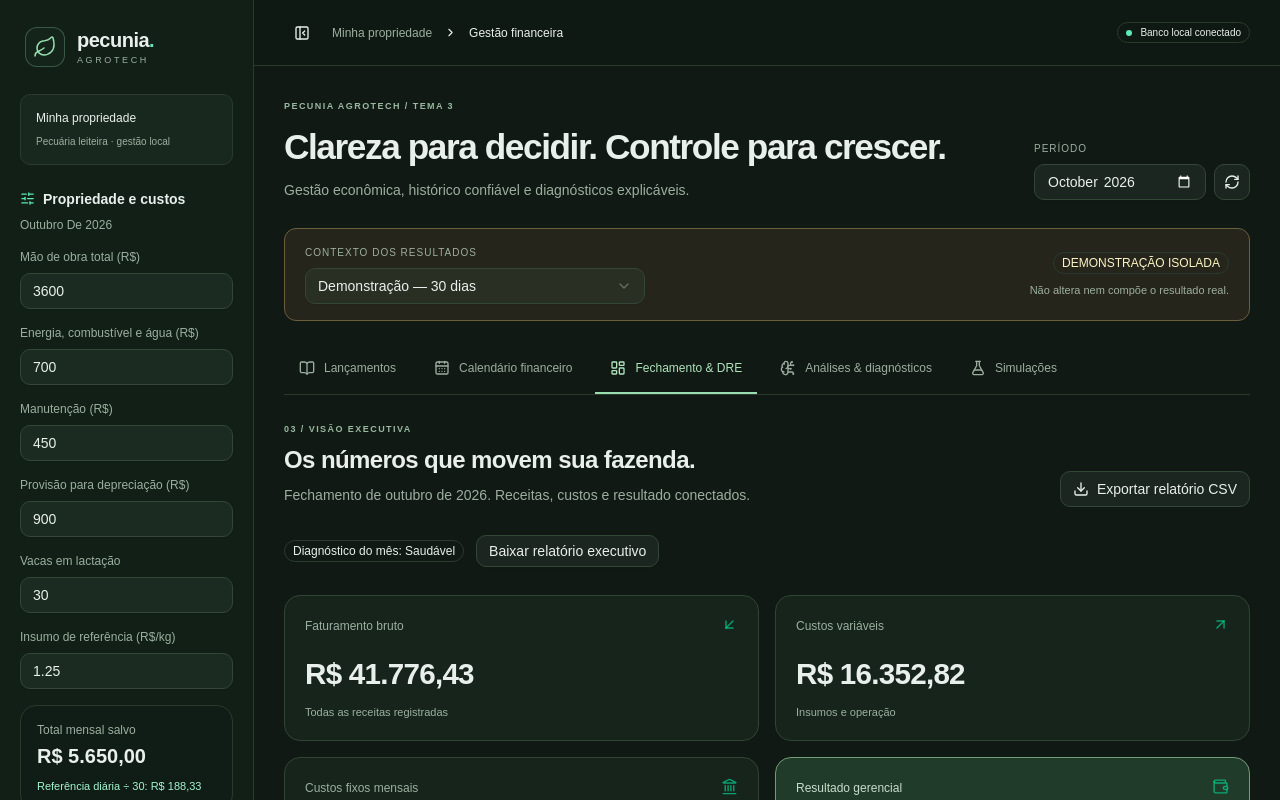
Test: application integration states › labels hypothetical data and scopes all requests after switching to real history
This screenshot has width=1280, height=800.
Expected: the text "DEMONSTRAÇÃO ISOLADA" is shown, [1053, 252, 1229, 274]
Click the dropdown named "Contexto dos resultados".
click(475, 286)  # box [305, 268, 645, 304]
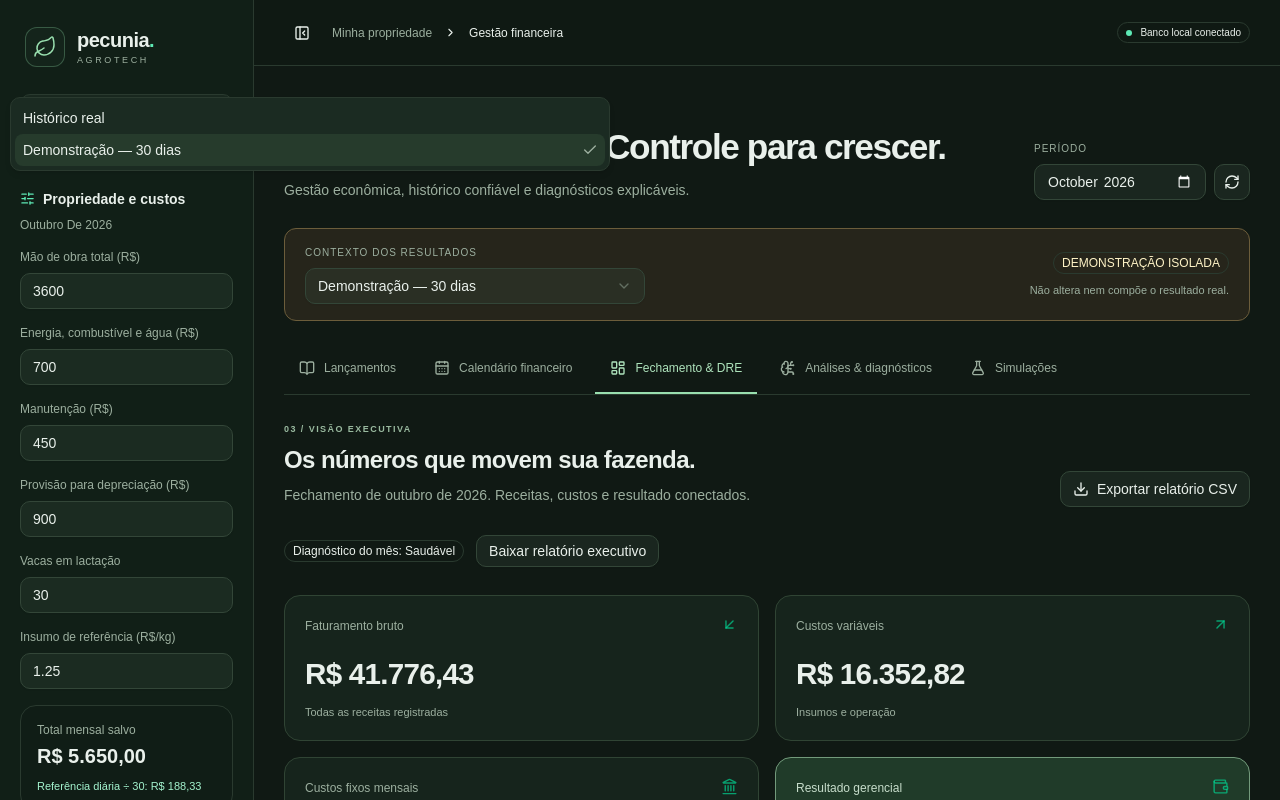
Click the option "Histórico real".
click(64, 118)  # box [23, 110, 105, 126]
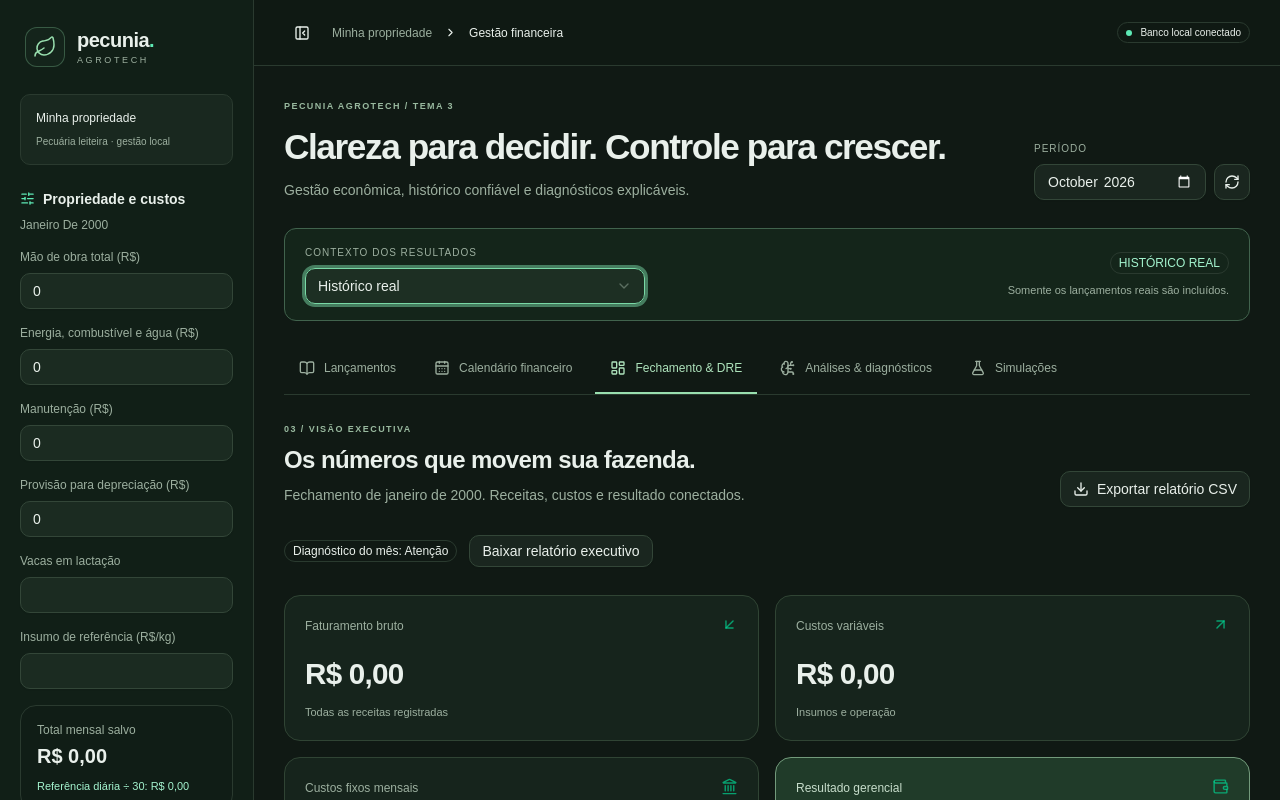
Now the text "HISTÓRICO REAL" is shown, box [1110, 252, 1229, 274]
